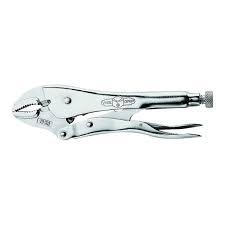pliers: (10, 82, 213, 140)
